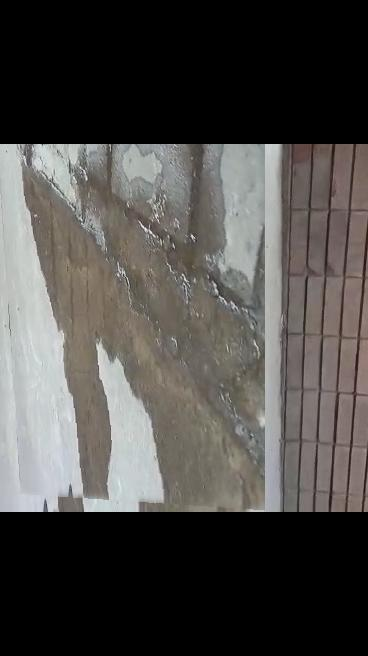water accumulation: (23, 144, 264, 512)
